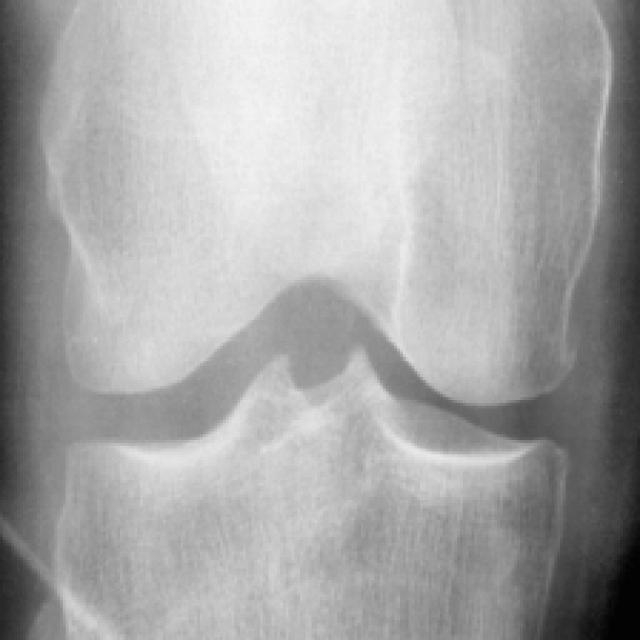femur: (46, 0, 613, 405)
tibia: (51, 351, 571, 640)
